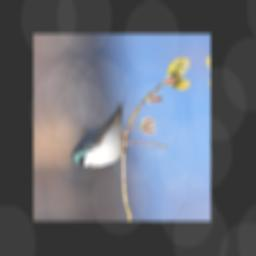Swallow: (66, 99, 131, 172)
